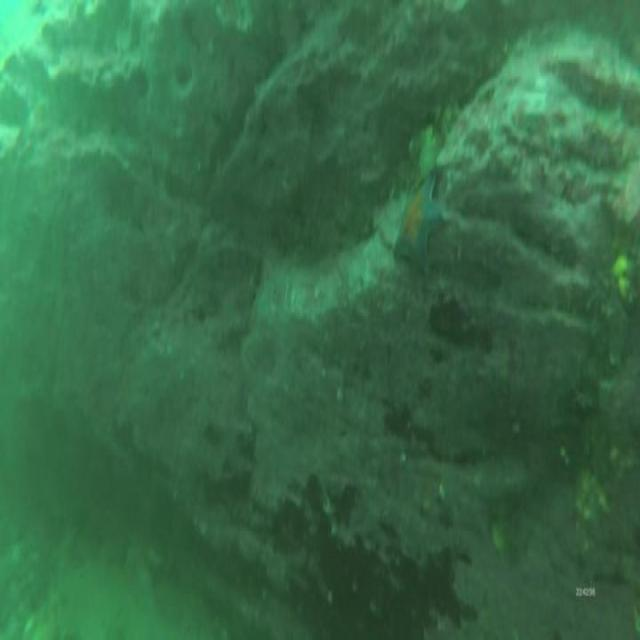starfish: (390, 164, 449, 283)
